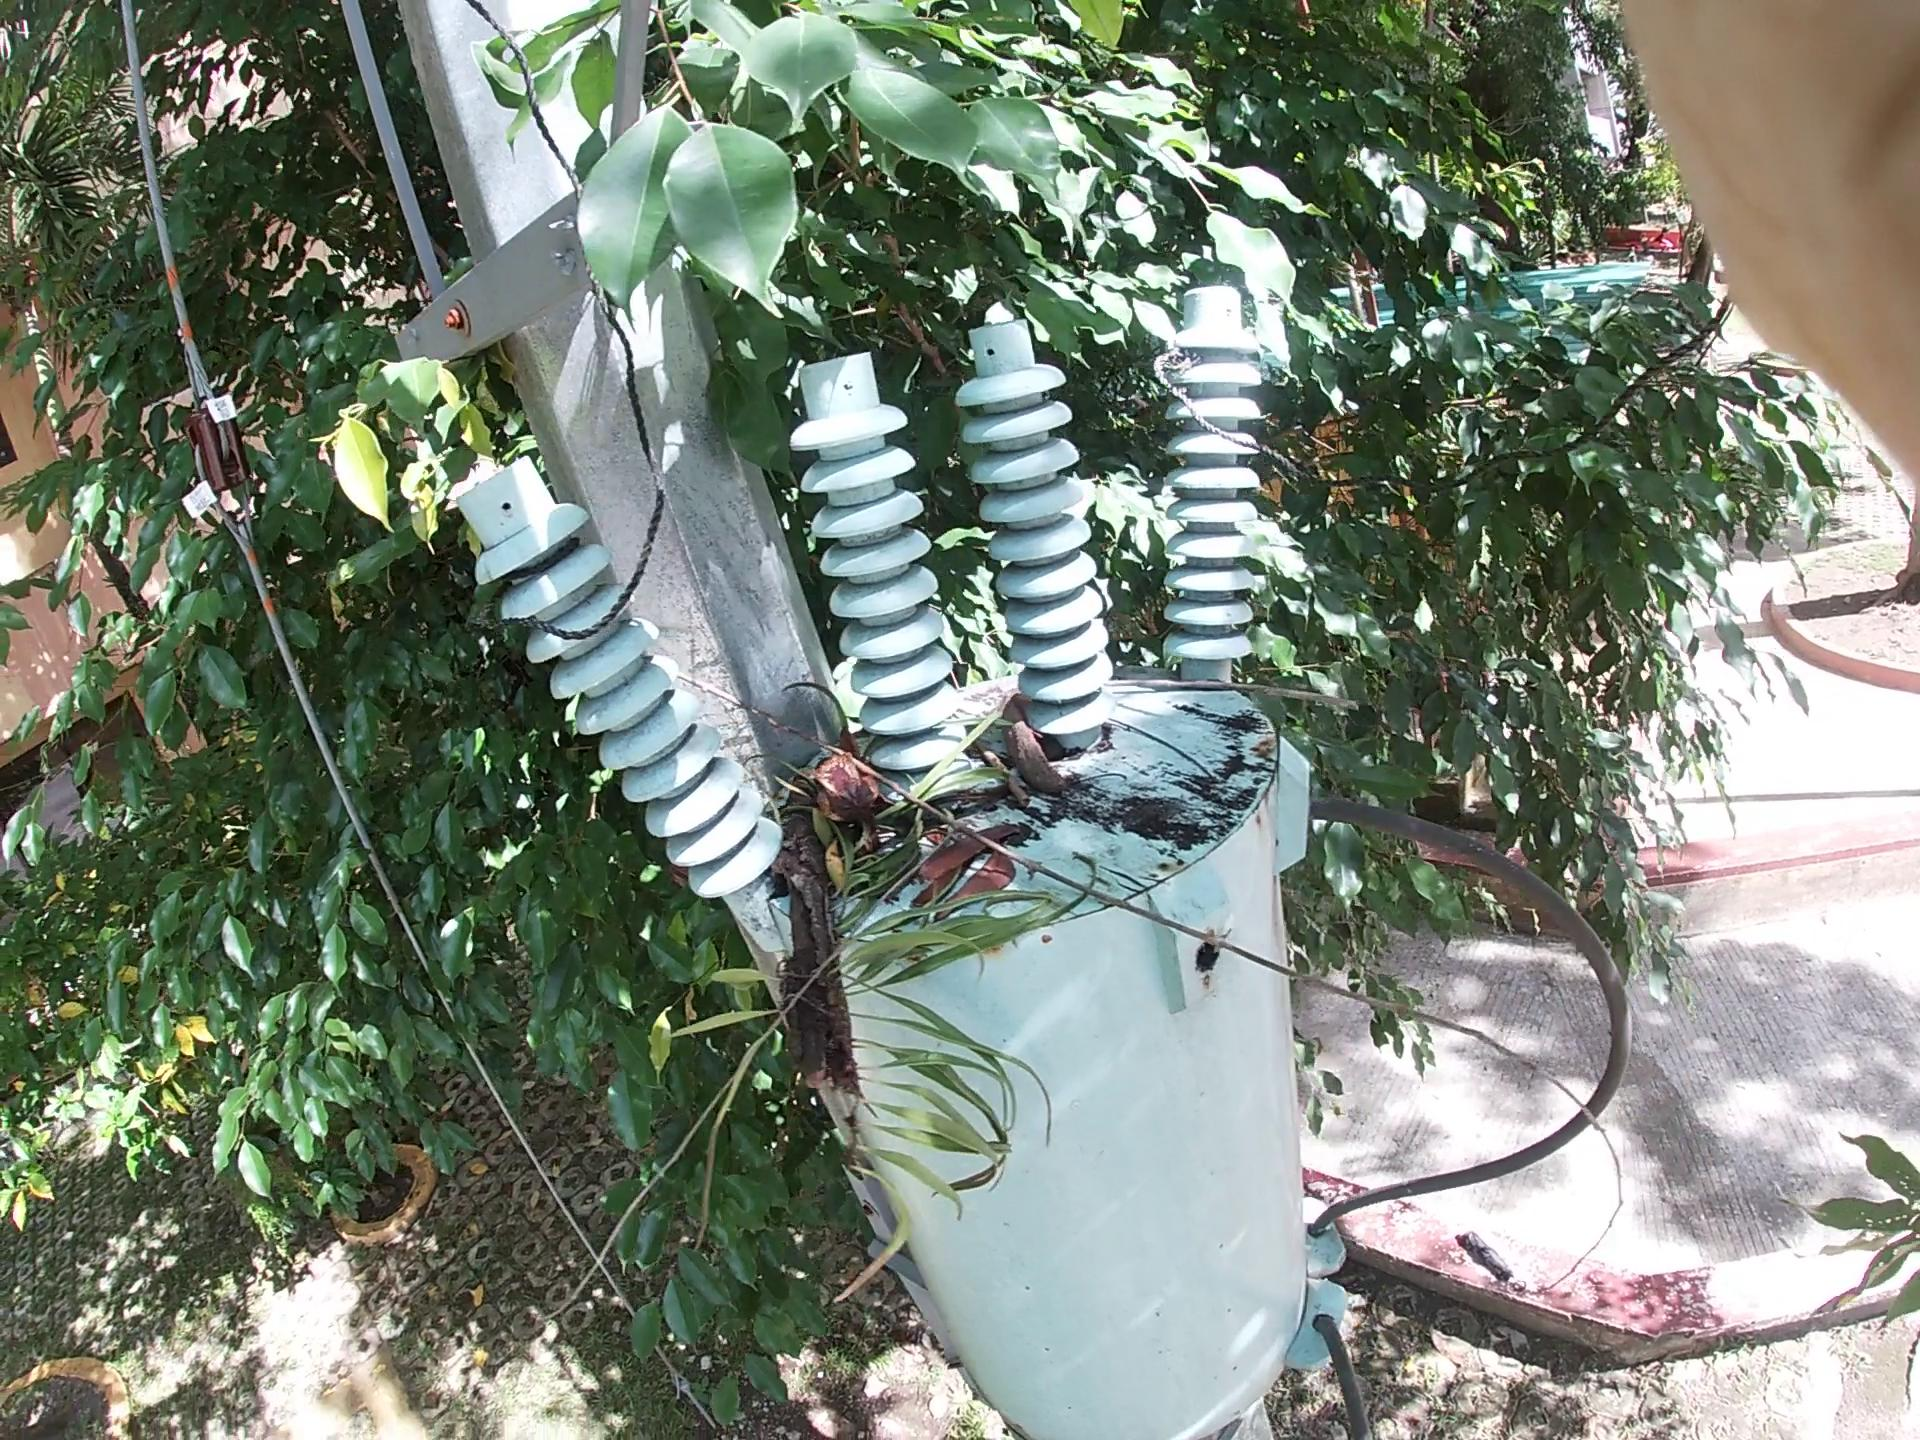branch with leaves: (708, 737, 909, 1196)
leaf: (915, 824, 1020, 936)
mahogany fruit: (974, 664, 1090, 830), (791, 712, 931, 849)
tree branch: (585, 631, 1550, 1122), (930, 691, 1104, 911), (1001, 616, 1352, 720)
